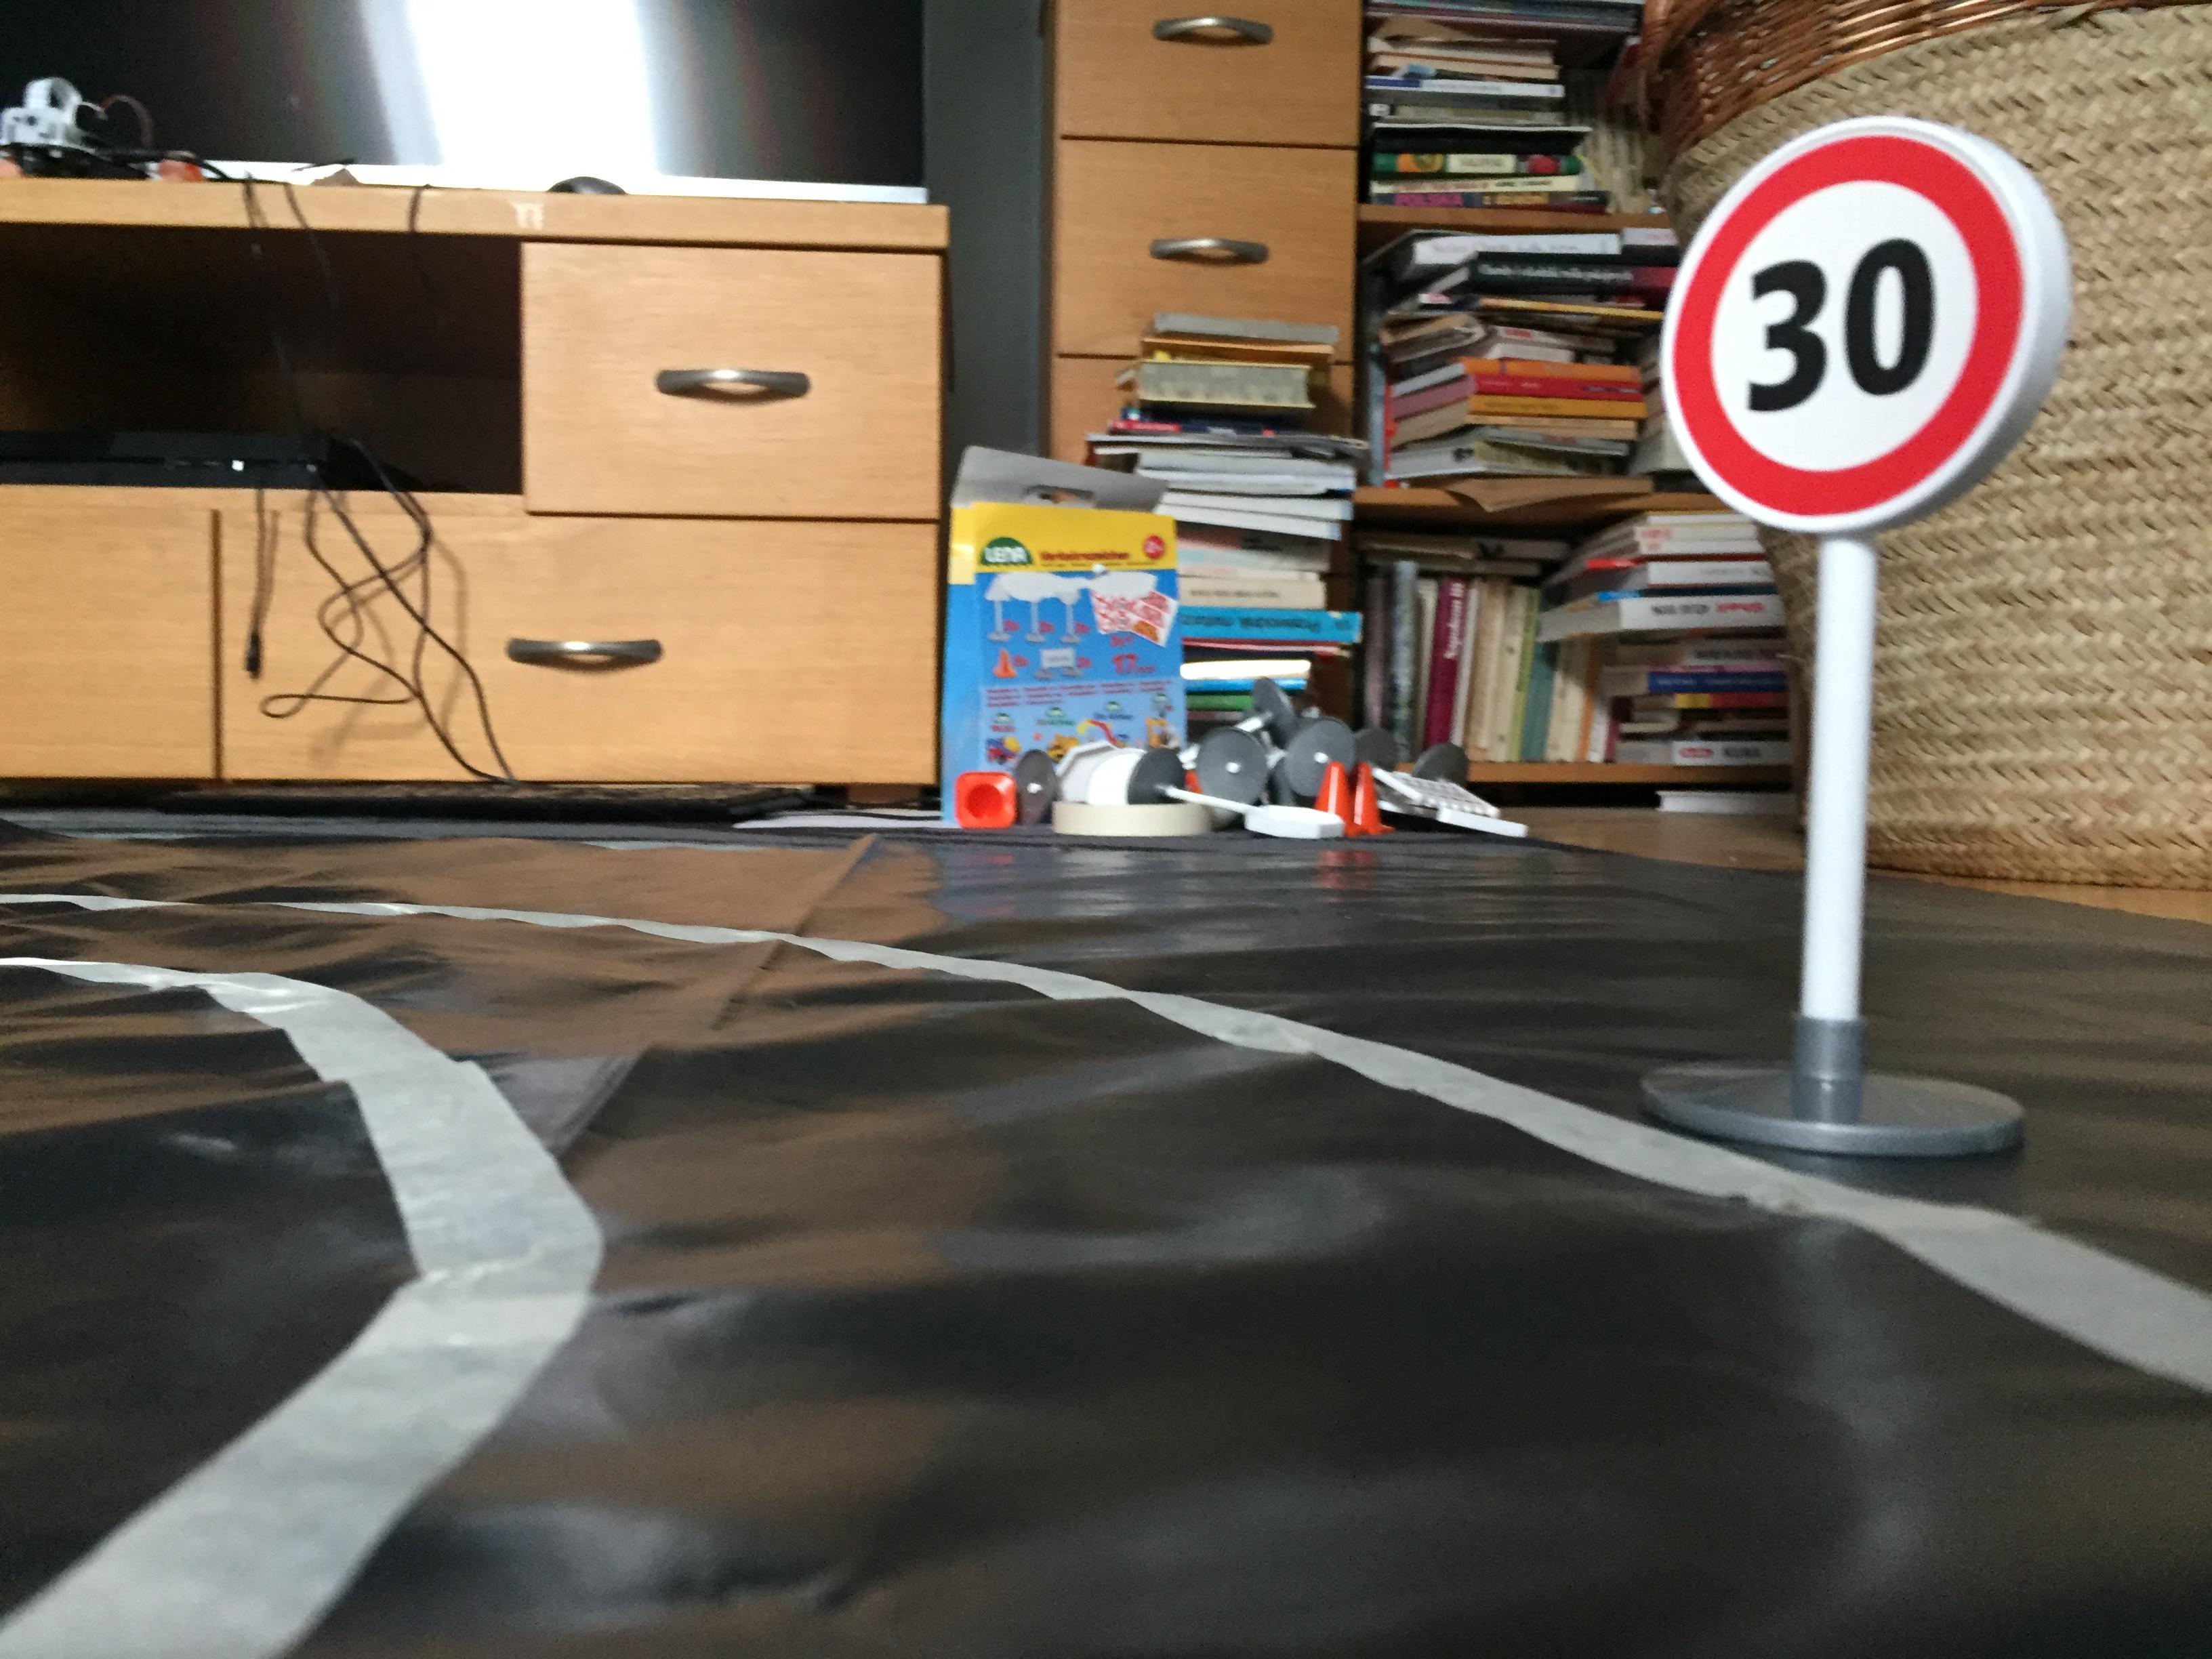speed: (1653, 108, 2099, 552)
